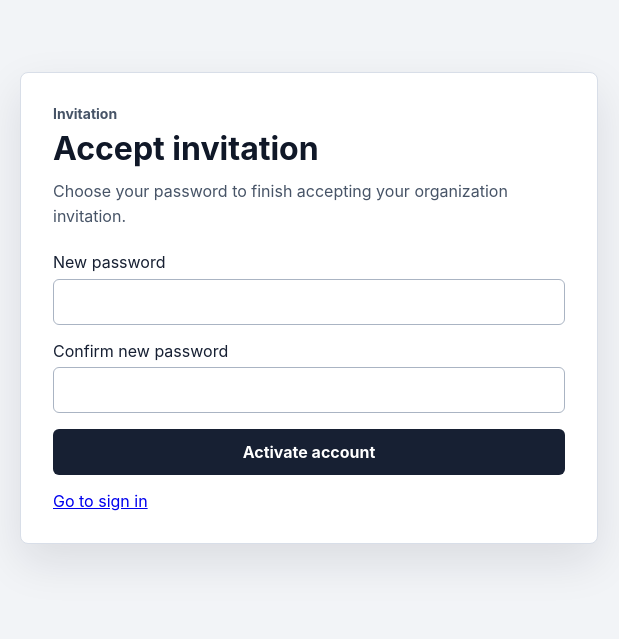
Test case: accepts an invitation without logging in or storing tokens
Type "StrongPass123!" into the password field labelled "New password" at (309, 302), box [53,279,565,325]
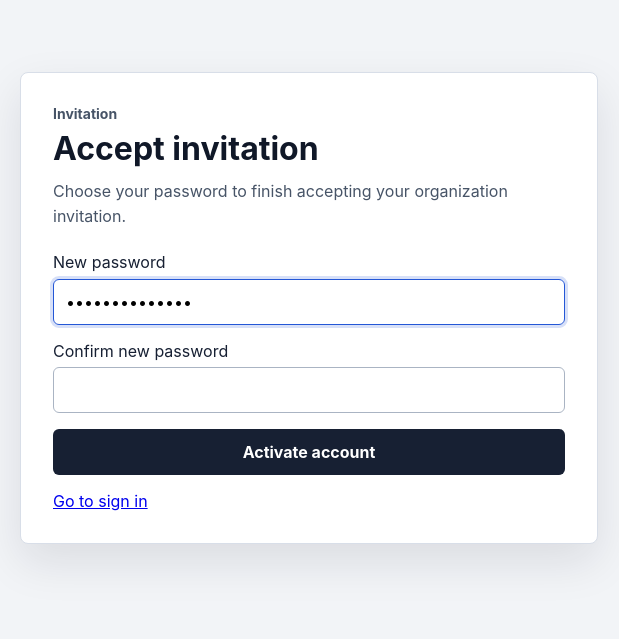
Type "StrongPass123!" into the password field labelled "Confirm new password" at (309, 390), box [53,367,565,413]
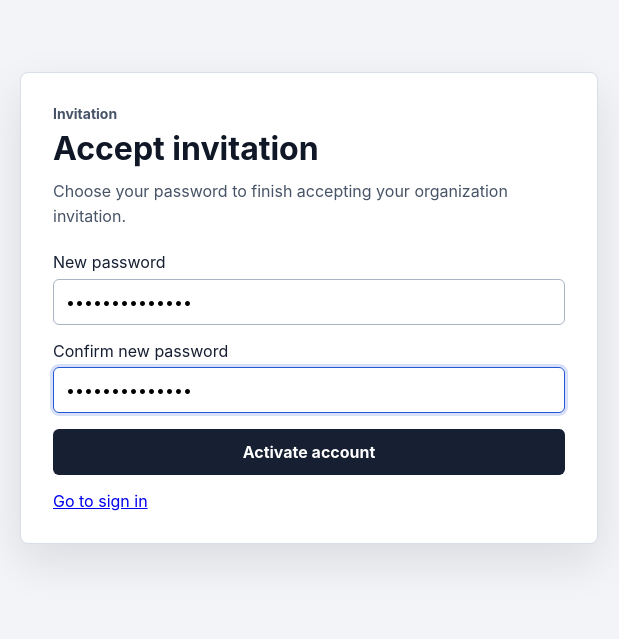
Click the button "Activate account" at (309, 452), box [53,429,565,475]
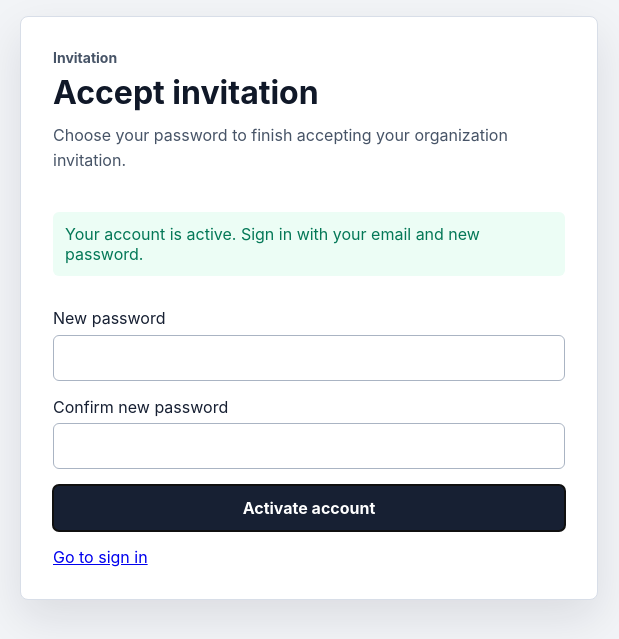
Check: the message shows "Sign in", box [65,224,480,264]
